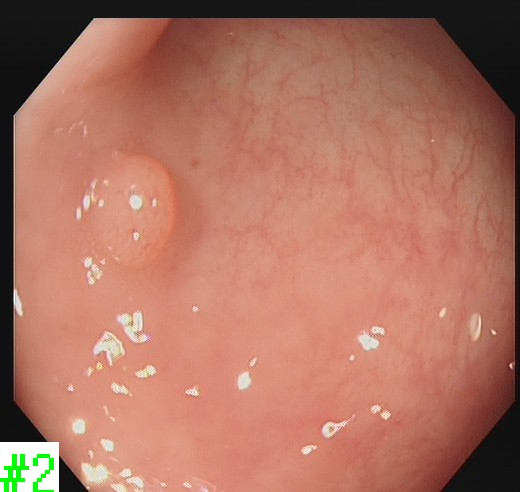adenoma: (86, 151, 178, 273)
